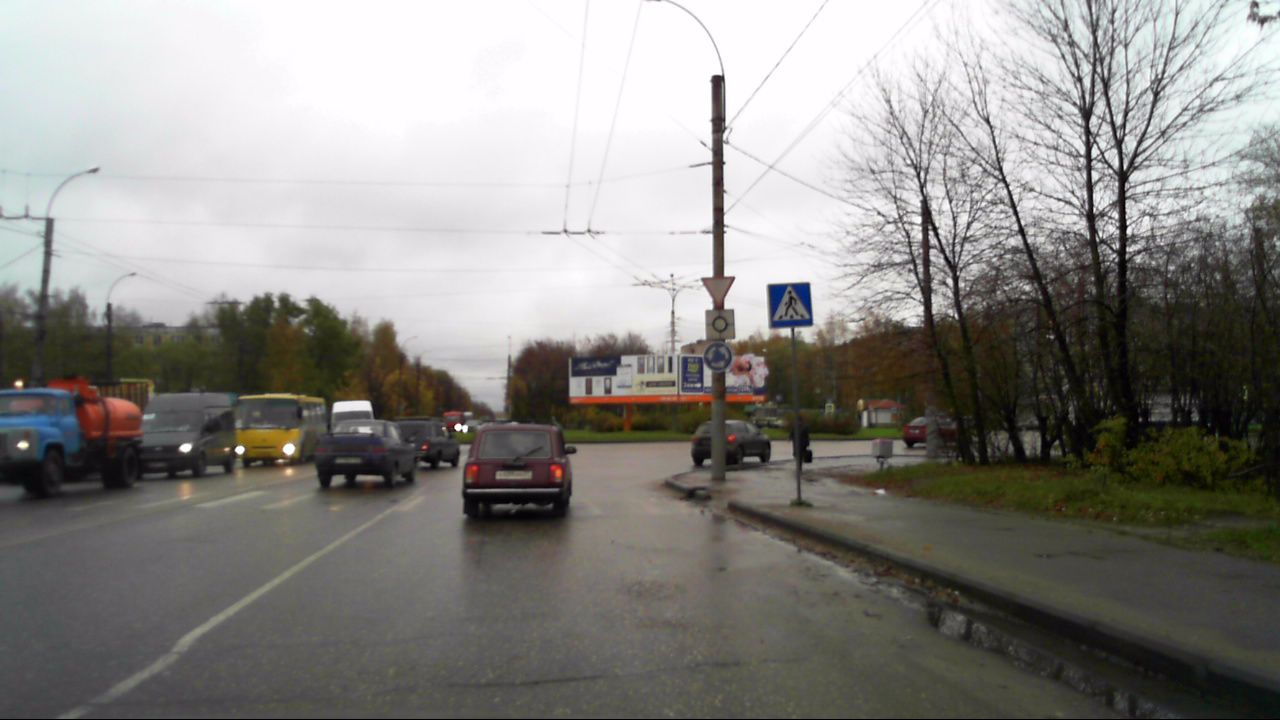Round-About: (703, 341, 732, 369)
